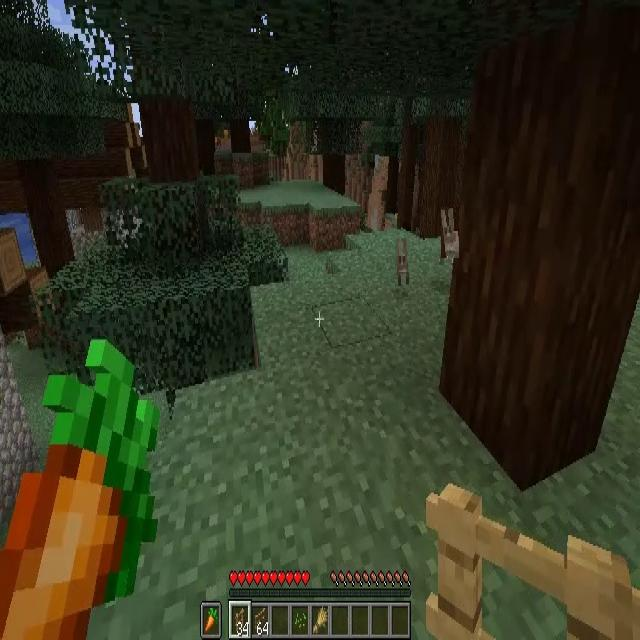rabbit: (441, 207, 459, 258), (395, 238, 410, 287)
